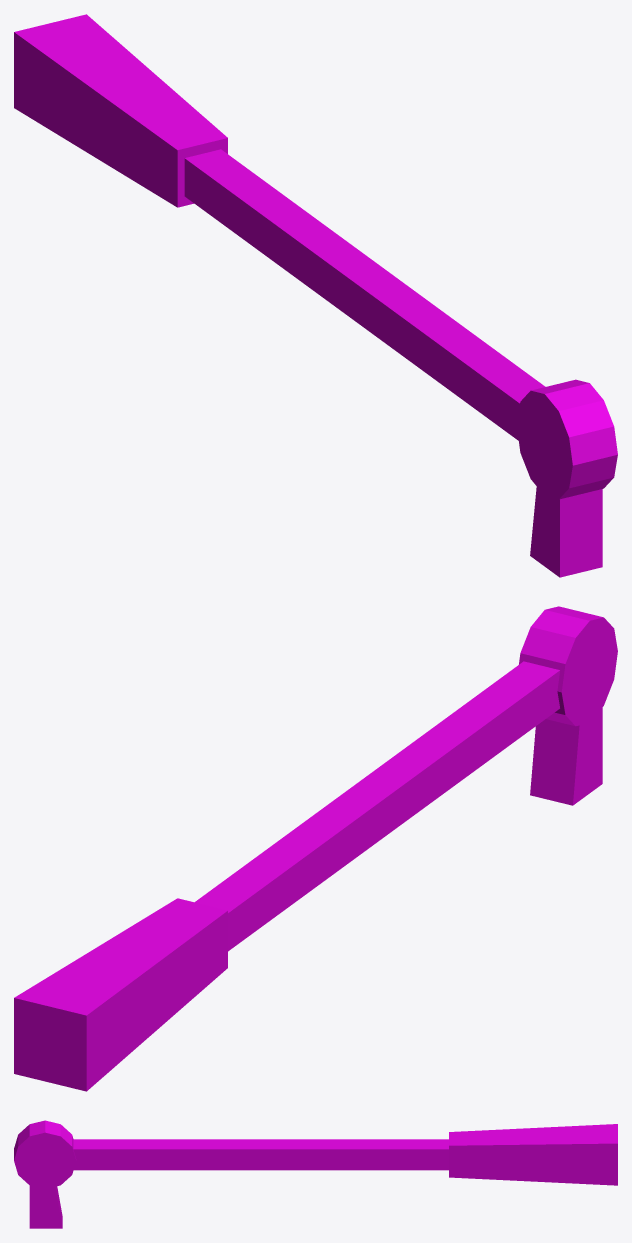
File: SM_FlatPanelBoomPart02Collider.fbx
3 renders of one model, top to bottom at view 1: azimuth 30°, elevation 25°; view 2: azimuth 150°, elevation 25°; view 3: azimuth 270°, elevation 25°, orthographic. The views are drawn at different scales.
Visible parts, largest first — view 1: FlatPanelBoomPart02Collision; view 2: FlatPanelBoomPart02Collision; view 3: FlatPanelBoomPart02Collision.
Part boxes in pixels (x1,y1,x2,y2): FlatPanelBoomPart02Collision: [14, 14, 617, 577]; FlatPanelBoomPart02Collision: [14, 606, 617, 1091]; FlatPanelBoomPart02Collision: [14, 1120, 617, 1228].
Bounding box in the file's own units: 6.17 × 14.09 × 80.17.
